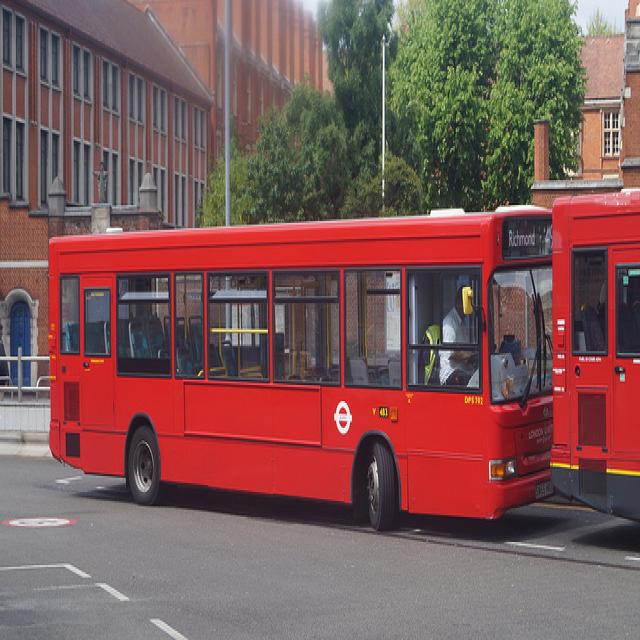Vehicle: (46, 204, 555, 530), (550, 194, 640, 523)
